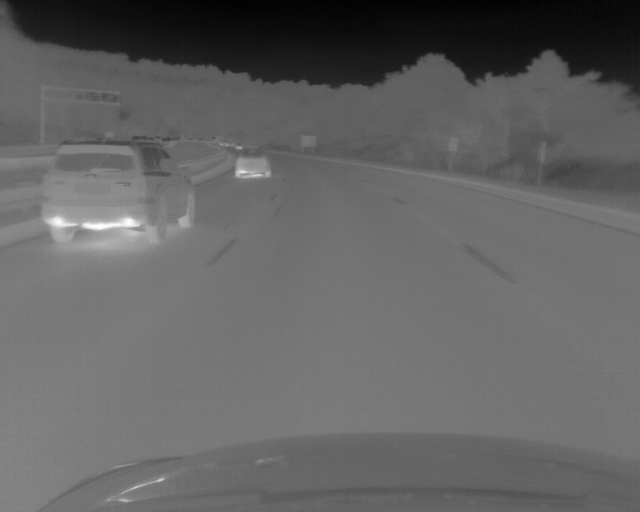car: (40, 139, 195, 245), (234, 148, 272, 179)
